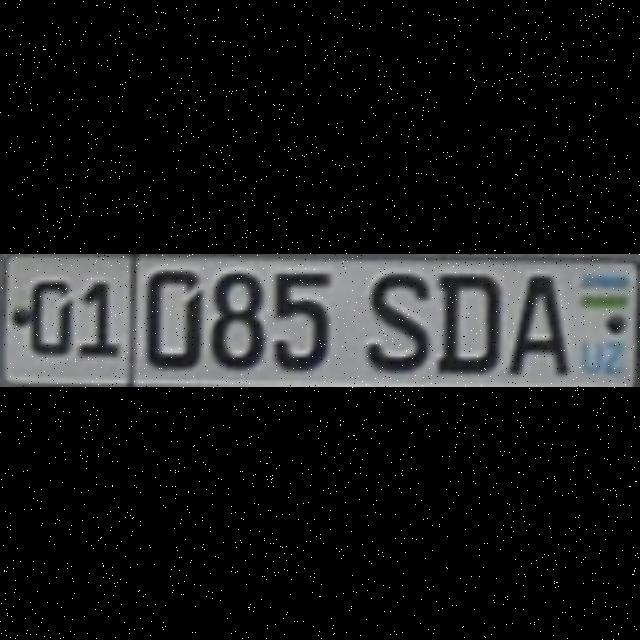0: (140, 263, 197, 363), (24, 272, 66, 350)
1: (73, 276, 113, 354)
5: (270, 266, 326, 366)
8: (207, 266, 260, 366)
A: (507, 270, 567, 370)
D: (434, 266, 496, 366)
S: (359, 266, 426, 366)
